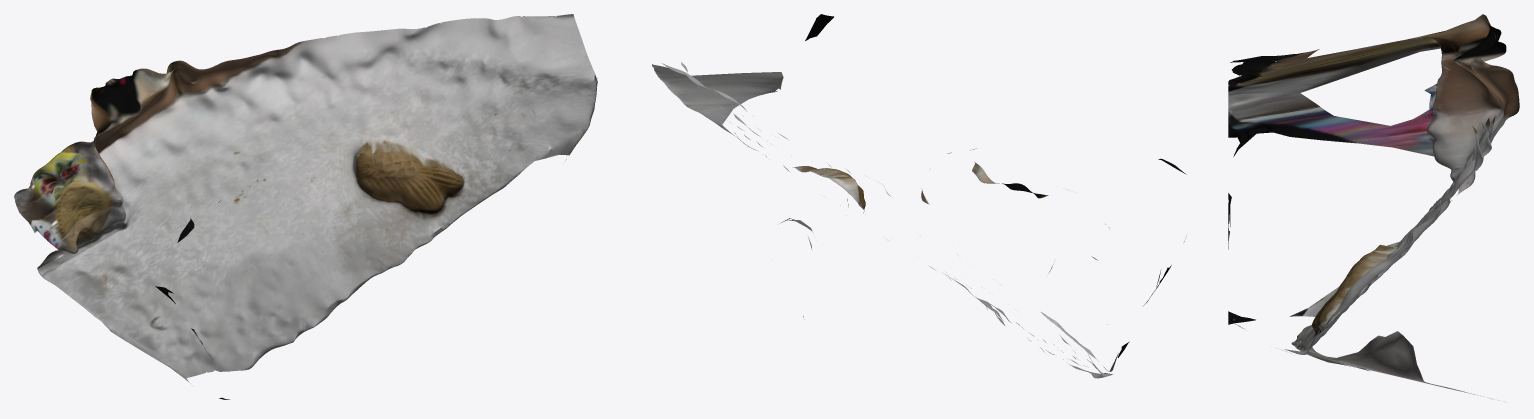
3 renders of one model, left to right at view 1: azimuth 30°, elevation 25°; view 2: azimuth 150°, elevation 25°; view 3: azimuth 270°, elevation 25°, orthographic. The views are drawn at different scales.
Bounding box in the file's own units: 1.06 × 0.4674 × 0.4279.
1 material, 1 textured.
